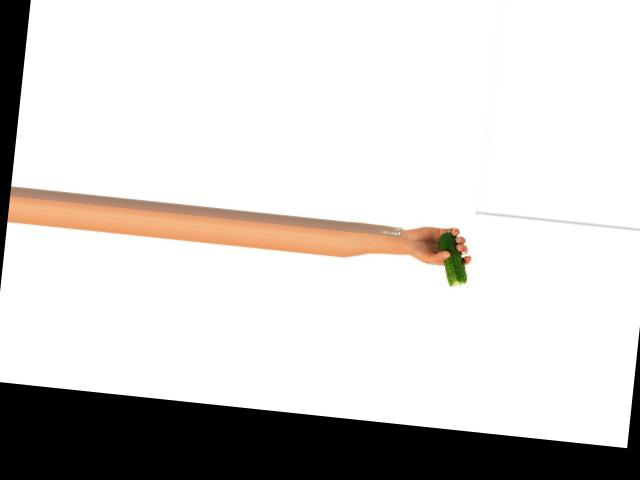cucumber: (434, 230, 470, 287)
